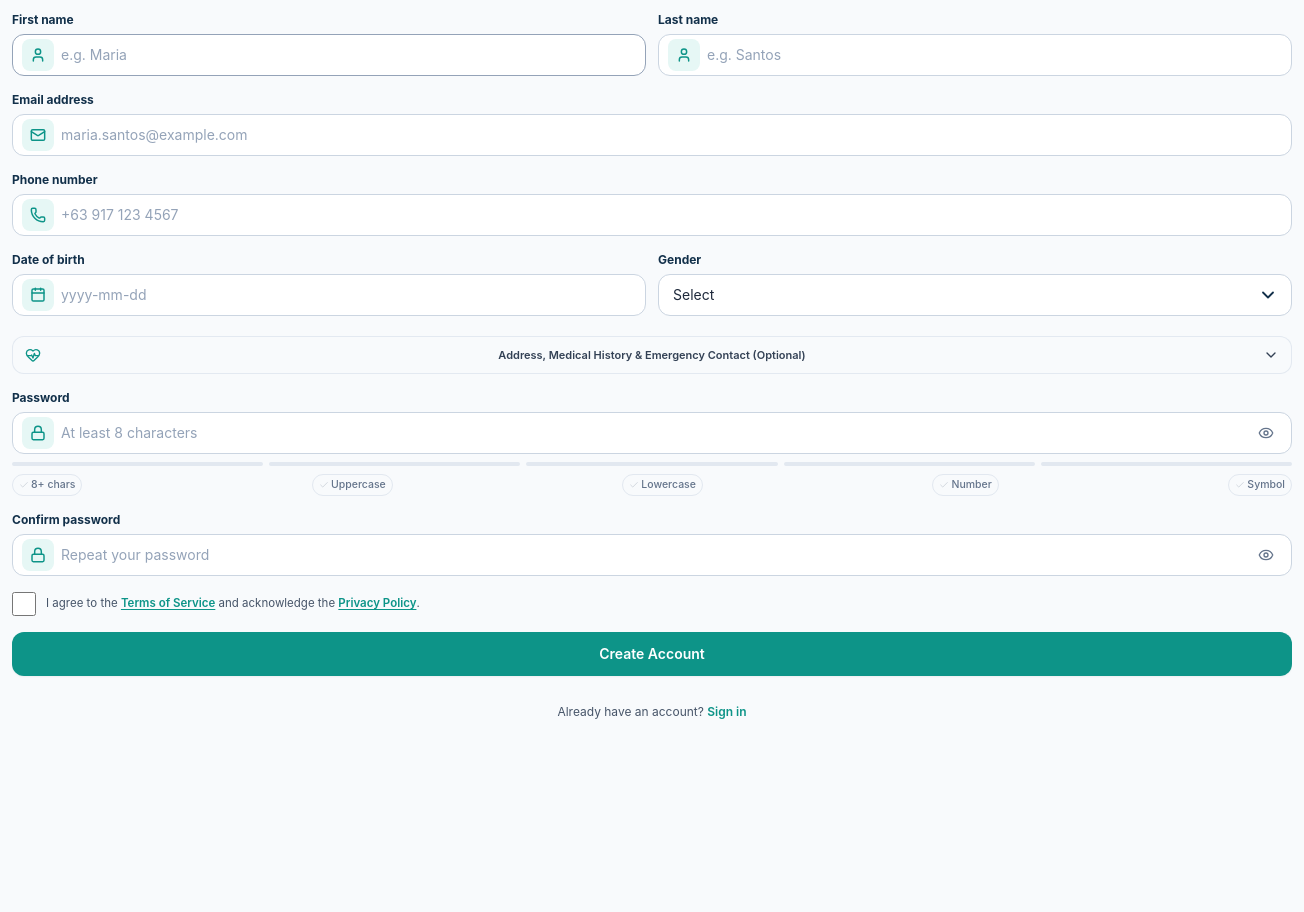
RegisterForm Name Input Restrictions › validates email, password mismatch on blur, and displays live match indicator
Expected: the button "Create Account" is enabled, [12, 632, 1292, 676]
In the field labelled "Email address": point(652, 135) [12, 114, 1292, 156], type "invalid-email"
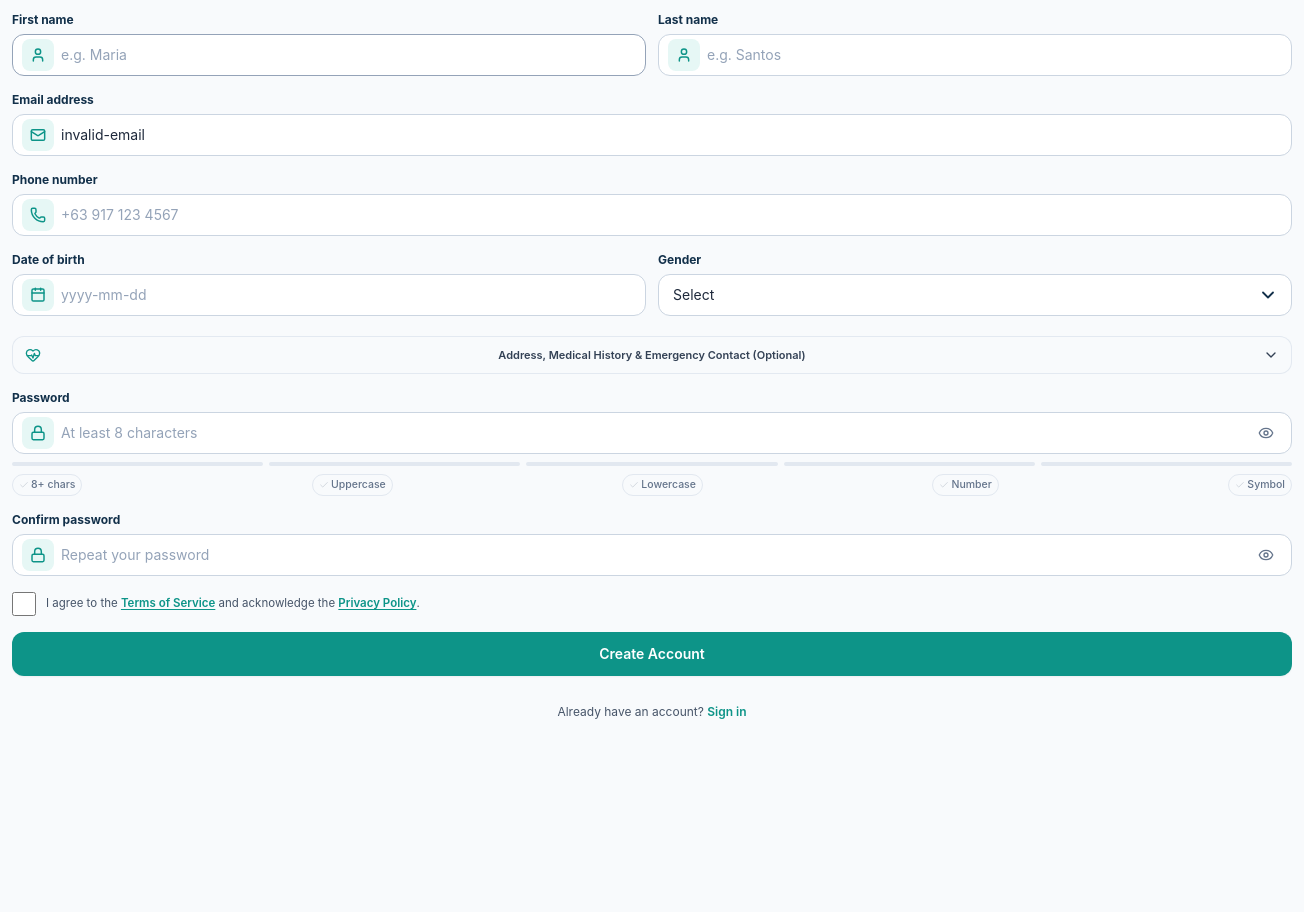
Leave the field labelled "Email address", box [12, 114, 1292, 156]
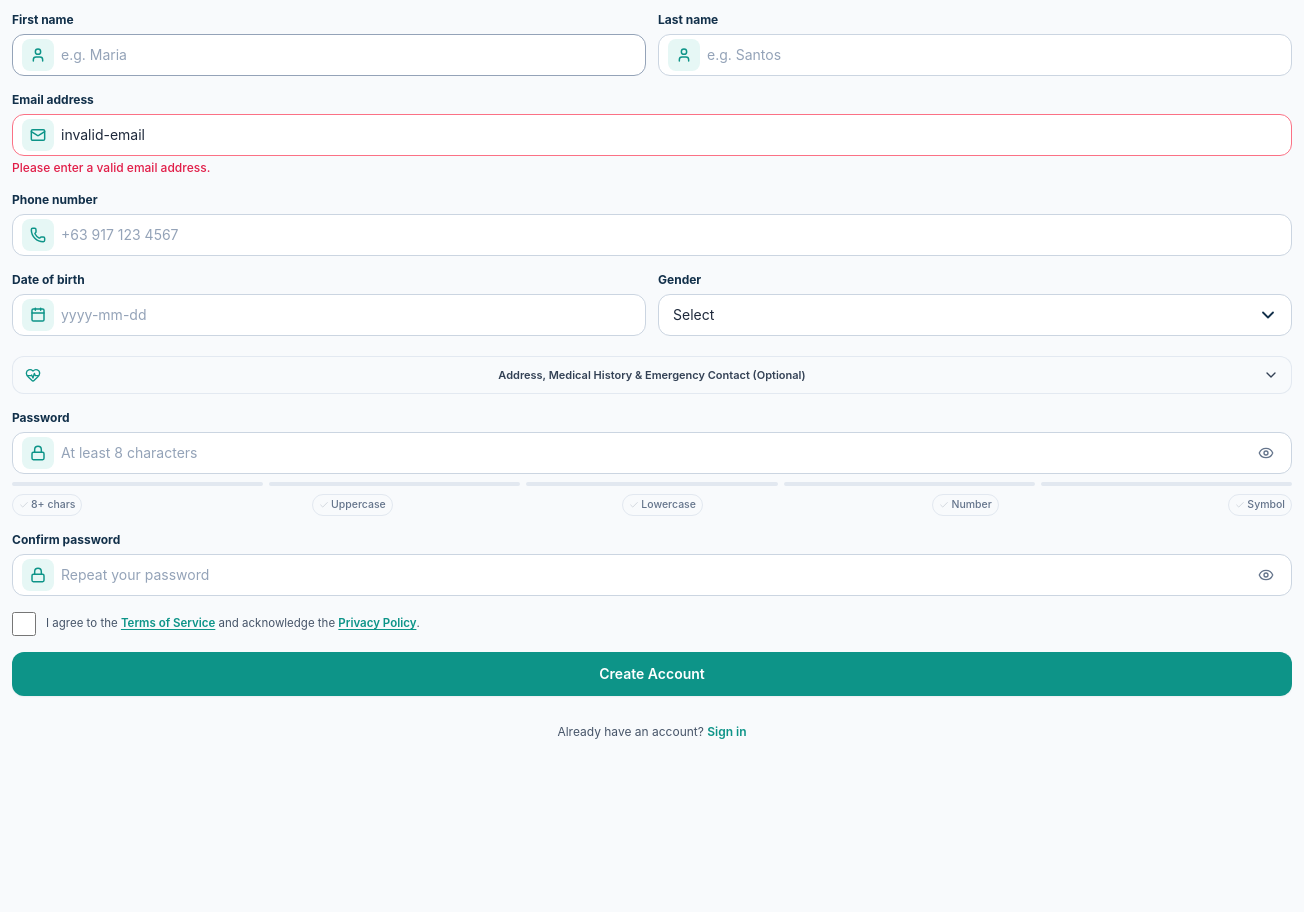
Expected: the text "Please enter a valid email address." is shown, [12, 160, 210, 175]
In the password field labelled "Password": point(652, 453) [12, 432, 1292, 474], type "StrongPass123!"
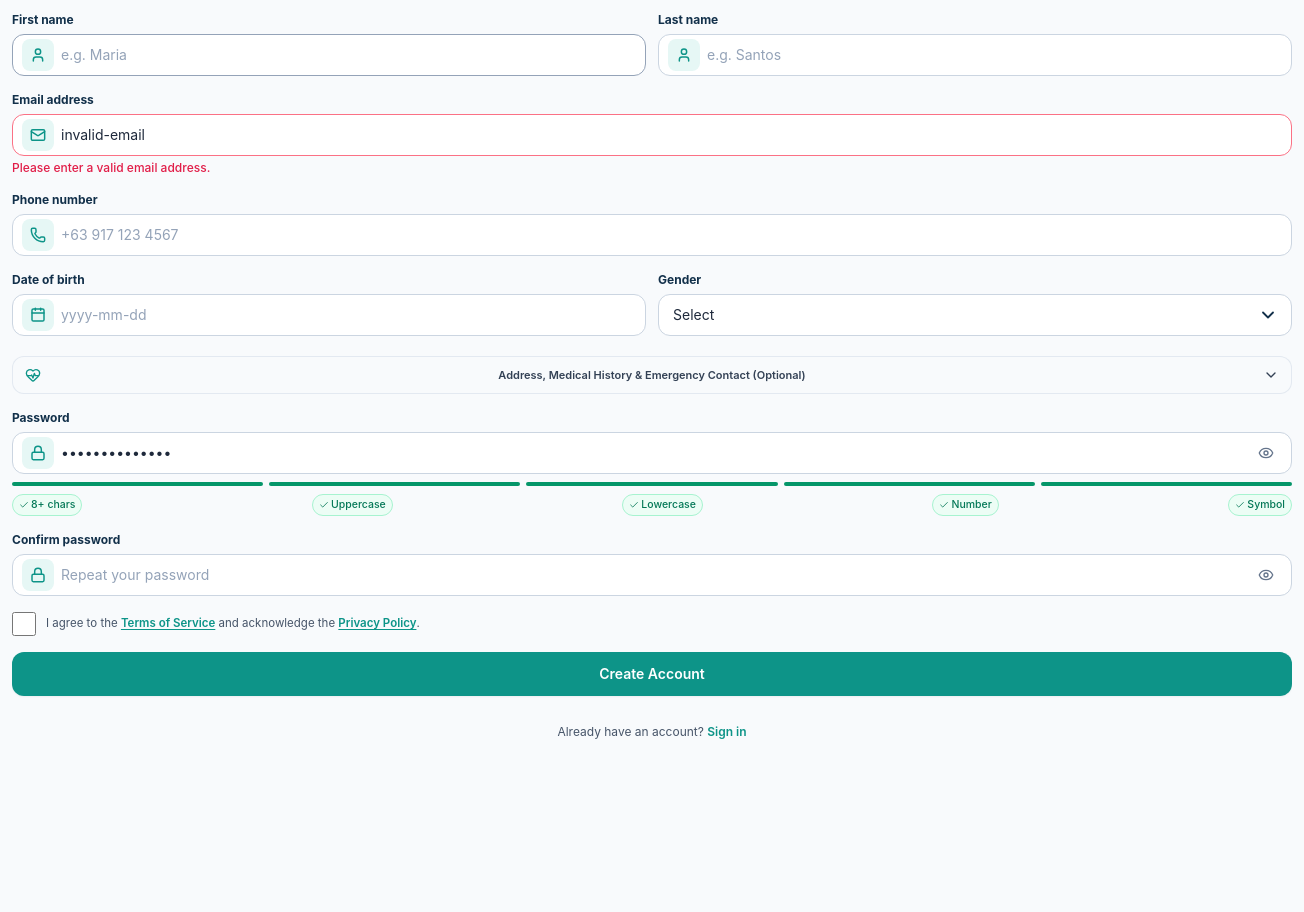
In the password field labelled "Confirm password": point(652, 575) [12, 554, 1292, 596], type "DifferentPass1!"
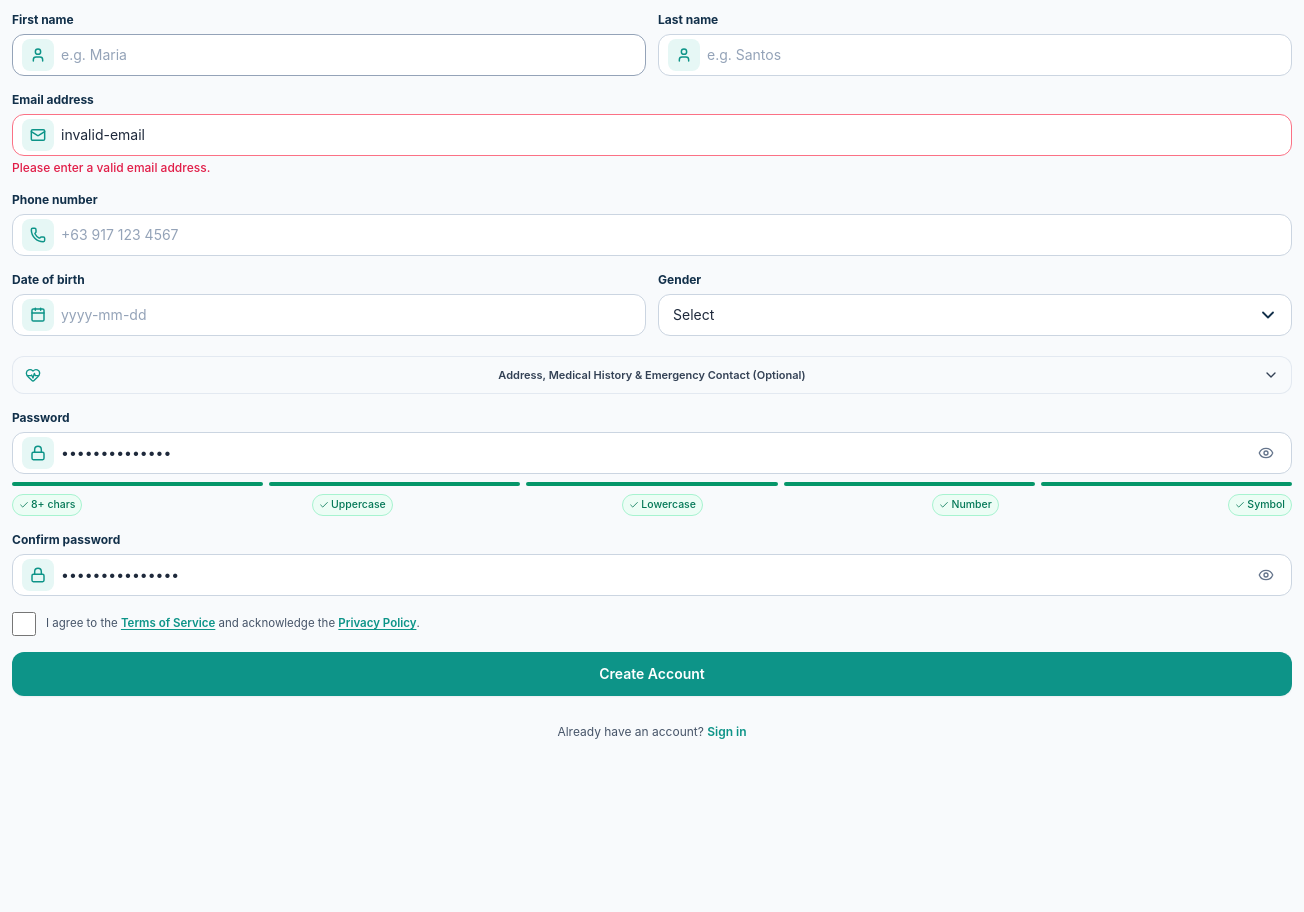
Leave the password field labelled "Confirm password", box [12, 554, 1292, 596]
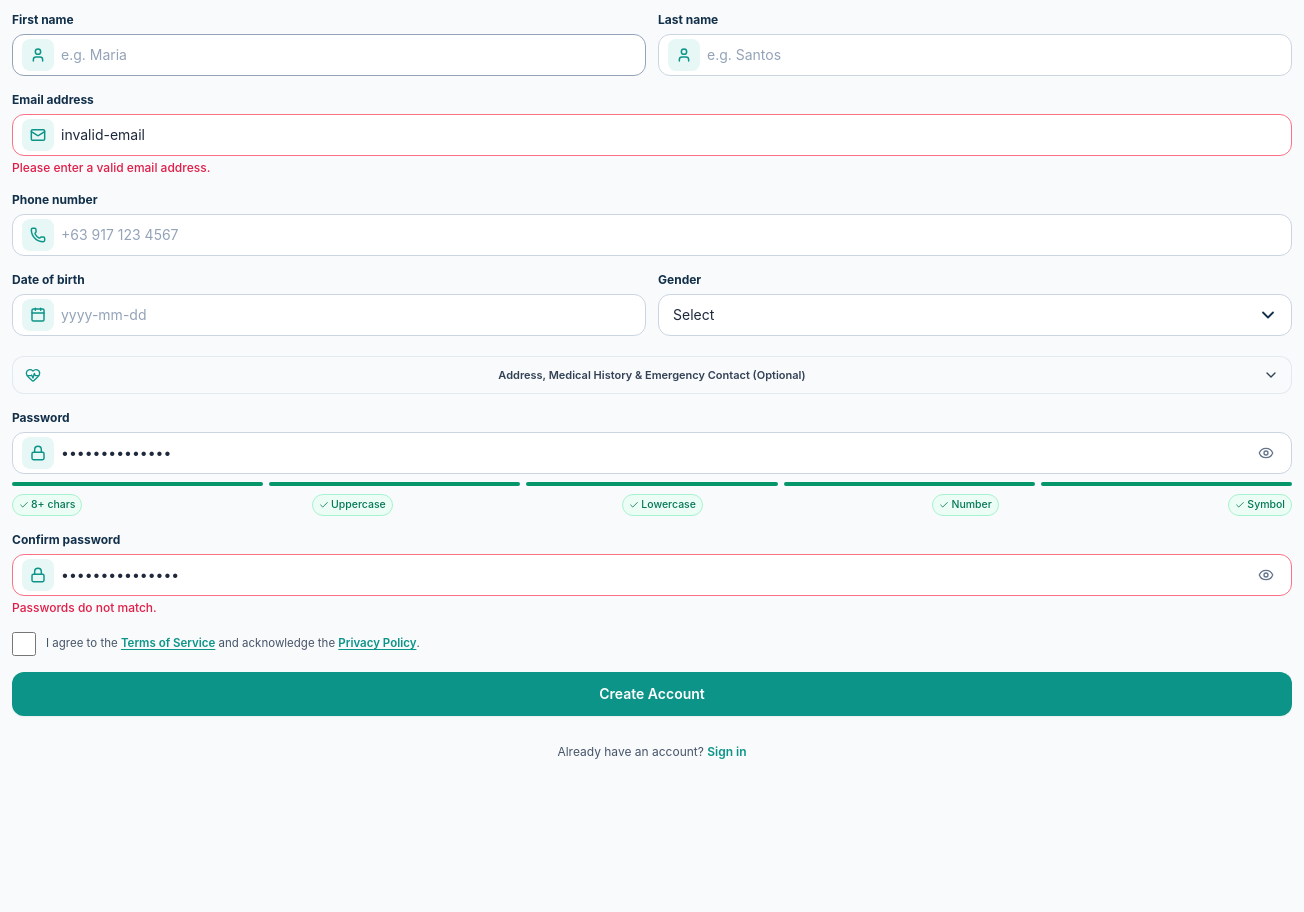
Expected: the text "Passwords do not match." is shown, [12, 600, 157, 615]
In the password field labelled "Confirm password": point(652, 575) [12, 554, 1292, 596], type "StrongPass123!"
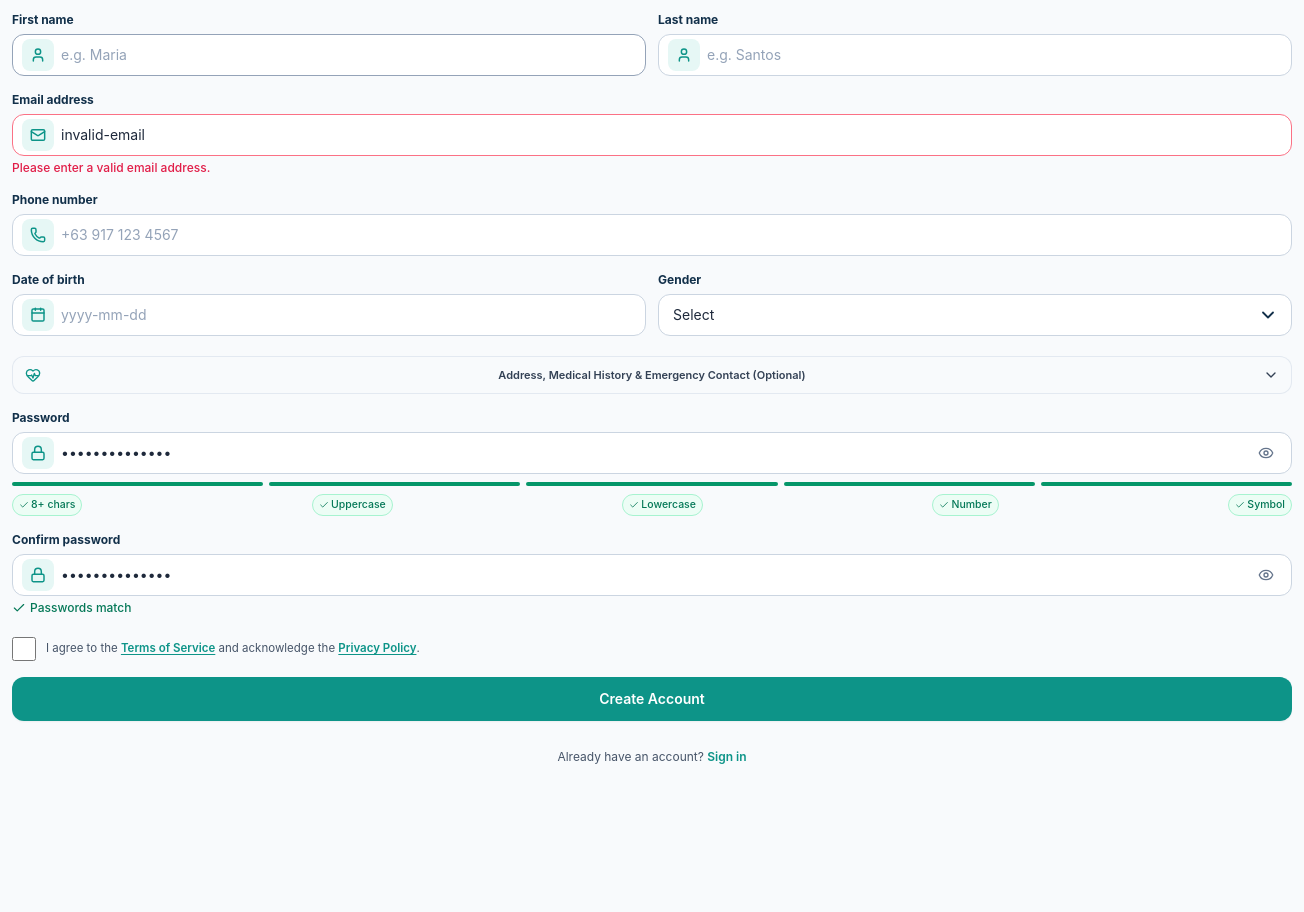
Expected: the text "Passwords do not match." is gone
Expected: the text "Passwords match" is shown, [12, 600, 132, 616]
